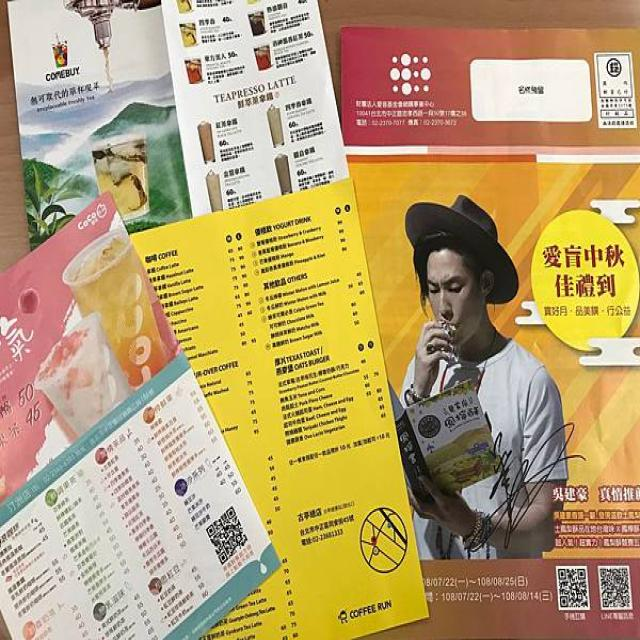paper: (342, 26, 640, 638), (131, 178, 428, 640), (0, 193, 279, 640), (8, 0, 356, 246)
